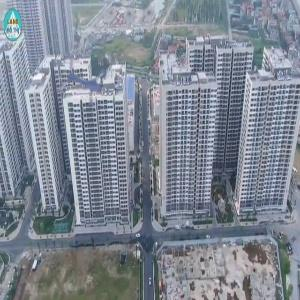drone: (56, 51, 125, 120)
